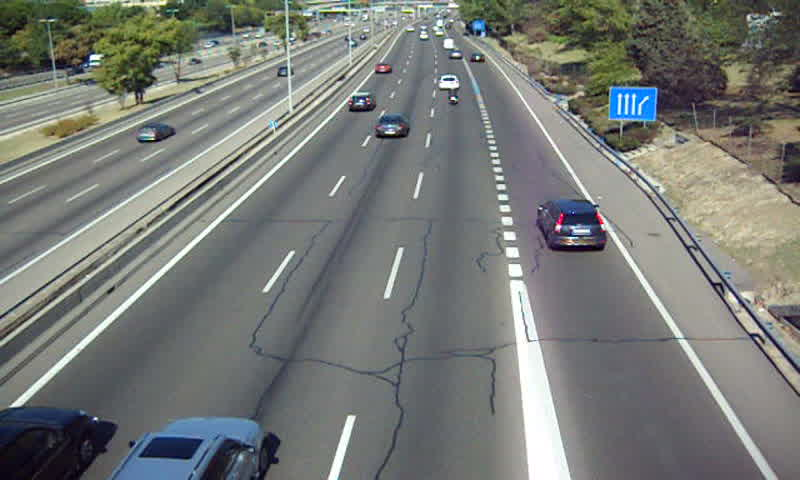car: (536, 198, 608, 250), (376, 114, 412, 139), (348, 92, 376, 114), (436, 74, 461, 91), (374, 62, 393, 74)
motorcycle: (445, 86, 460, 105)
